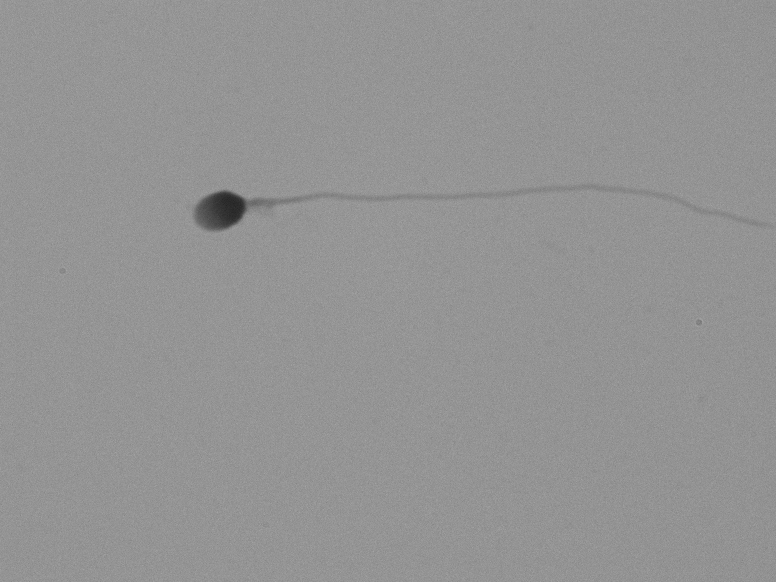Normal: (160, 110, 752, 333)
